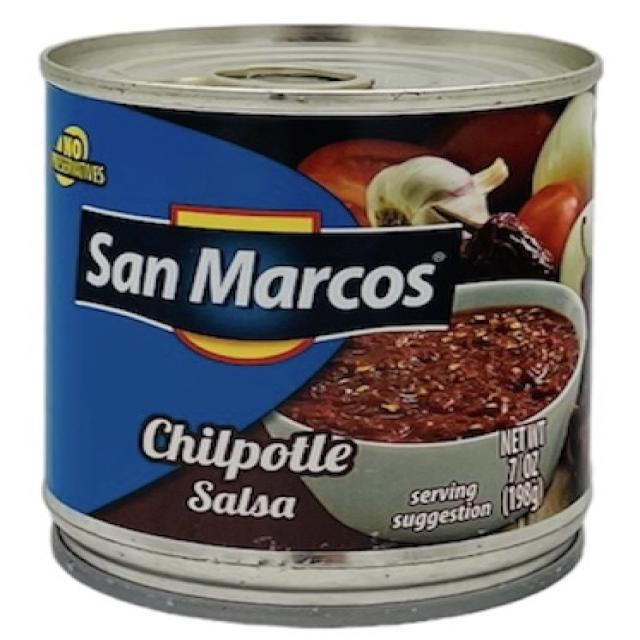Lata: (33, 22, 588, 620)
